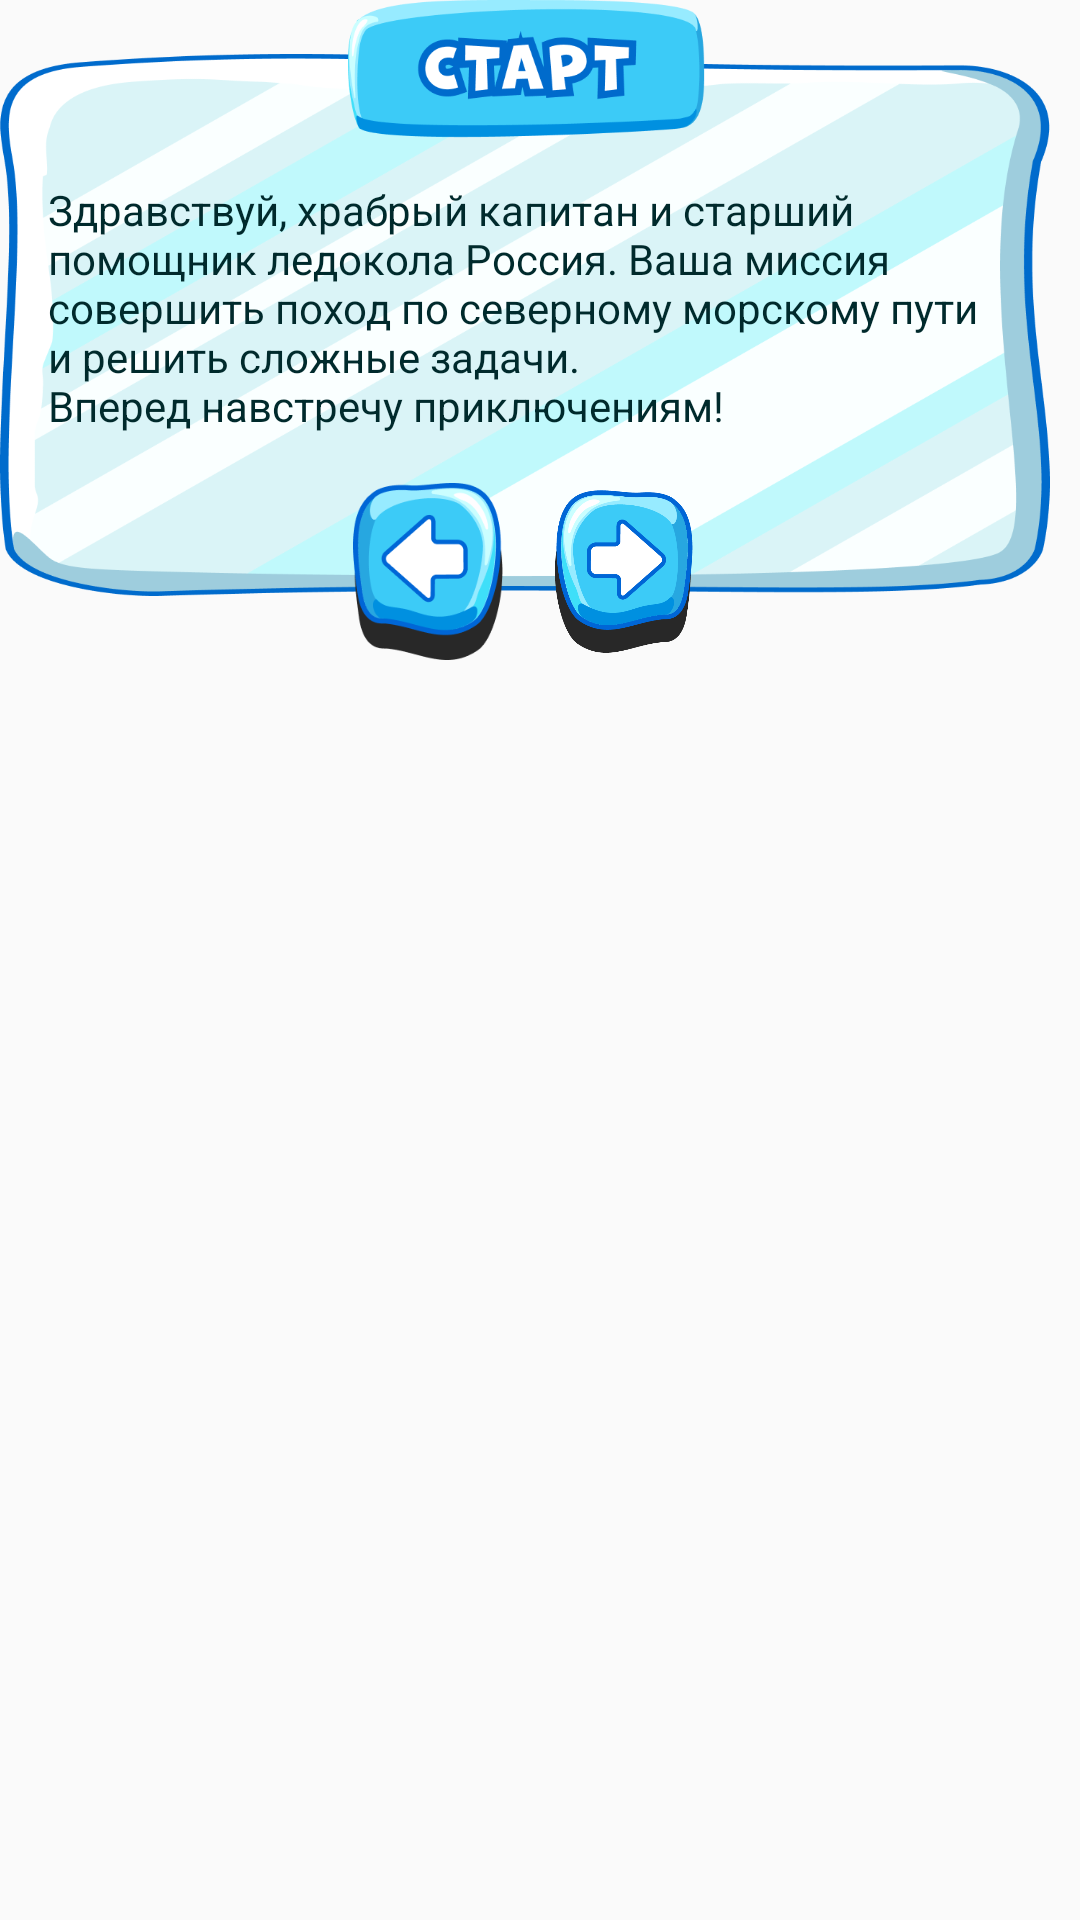

Point at icon controls on the screen. Image size 1080x1920, points as [x,y].
back: [428,571]
vpered: [623,571]
